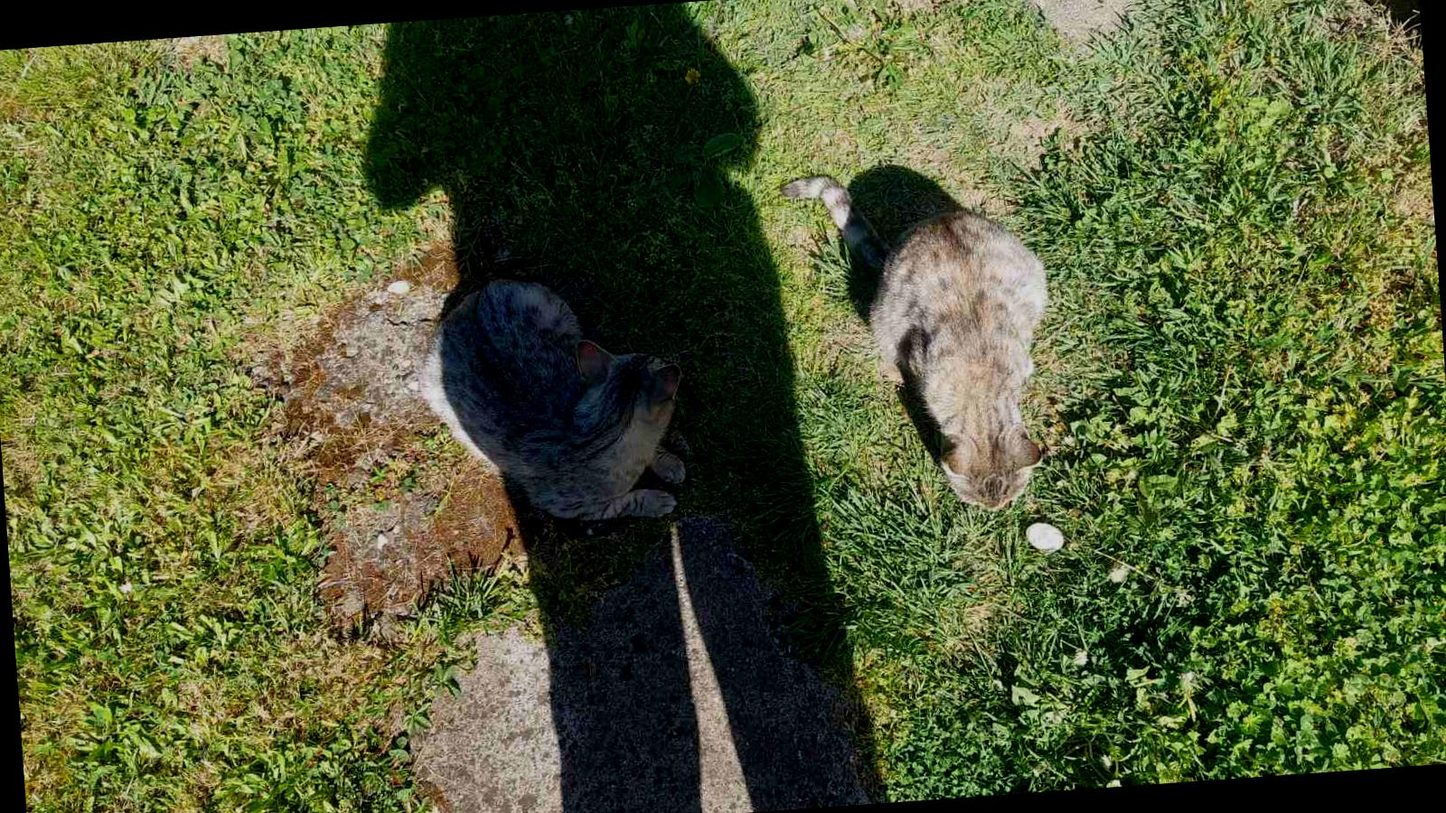macka: (781, 159, 1060, 527), (411, 264, 691, 537)
